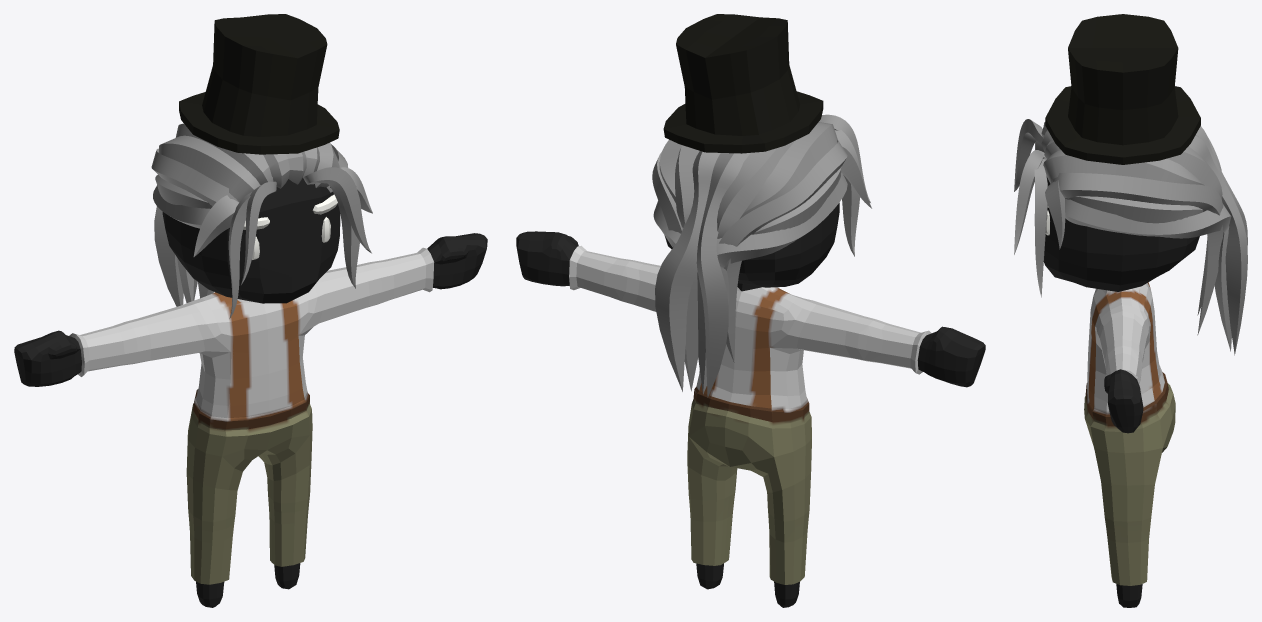
The model's file is OldClassy_Female.fbx.
3 renders of one model, left to right at view 1: azimuth 30°, elevation 25°; view 2: azimuth 150°, elevation 25°; view 3: azimuth 270°, elevation 25°, orthographic.
Visible parts, largest first — view 1: Body; view 2: Body; view 3: Body.
Boxes of the visible parts, x1,y1,x2,y2 form: Body: (14,14,487,607); Body: (516,14,985,607); Body: (1014,14,1247,607).
Bounding box in the file's own units: 324 × 377 × 142.
1 material, 1 textured.
